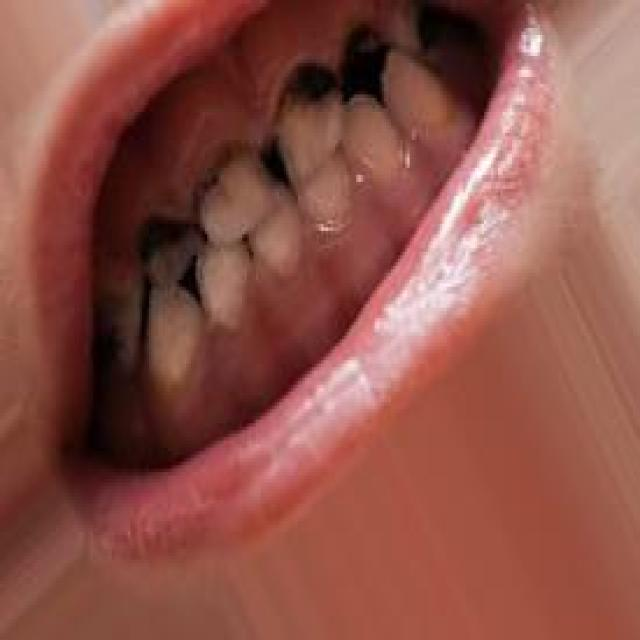caries: (190, 134, 293, 247), (268, 54, 341, 185), (333, 11, 403, 124), (137, 209, 206, 295), (99, 274, 148, 372)
